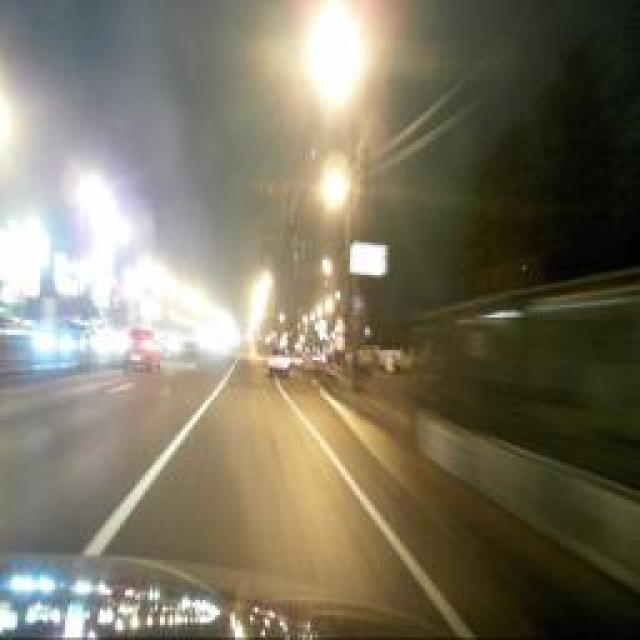sign: (351, 295, 361, 315)
